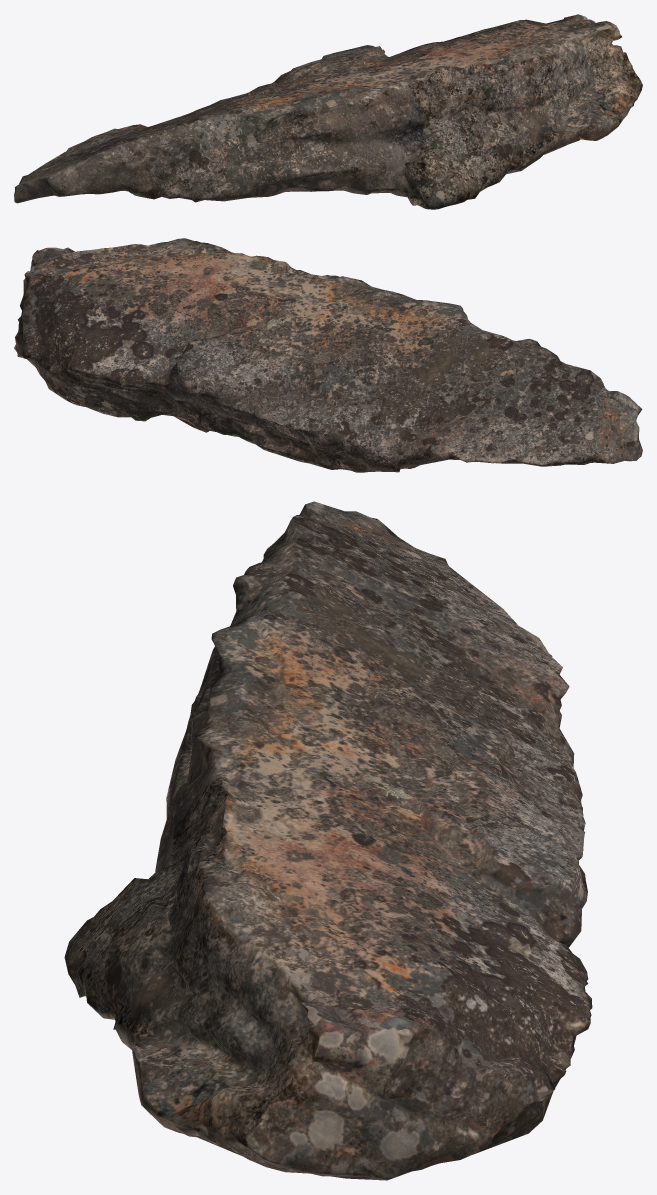
File: SM_yeyifh2_tier_2.gltf
3 views of the same model, one above another, from view 1: azimuth 30°, elevation 25°; view 2: azimuth 150°, elevation 25°; view 3: azimuth 270°, elevation 25° (orthographic). The views are drawn at different scales.
Visible parts, largest first — view 1: yeyifh2_LOD2_TIER2_000; view 2: yeyifh2_LOD2_TIER2_000; view 3: yeyifh2_LOD2_TIER2_000.
Boxes of the visible parts, x1=… form: yeyifh2_LOD2_TIER2_000: x1=14, y1=14, x2=642, y2=209; yeyifh2_LOD2_TIER2_000: x1=14, y1=238, x2=642, y2=472; yeyifh2_LOD2_TIER2_000: x1=64, y1=501, x2=592, y2=1180.
Bounding box in the file's own units: 1.47 × 0.2999 × 0.5643.
1 material, 1 textured.
